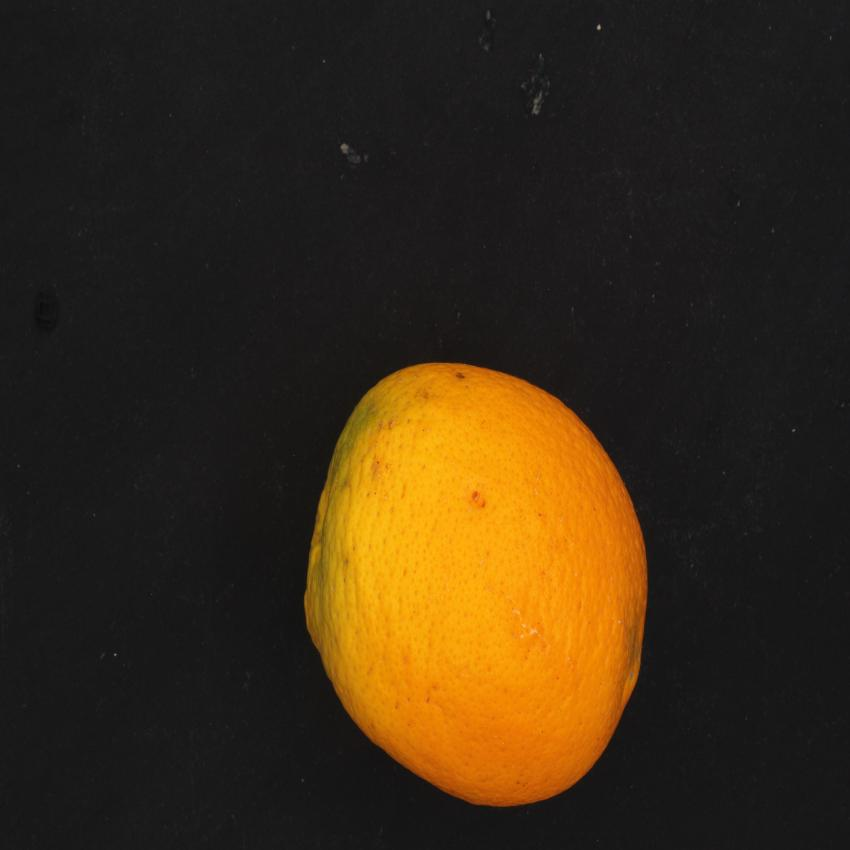Mal estado: (298, 345, 677, 817)
